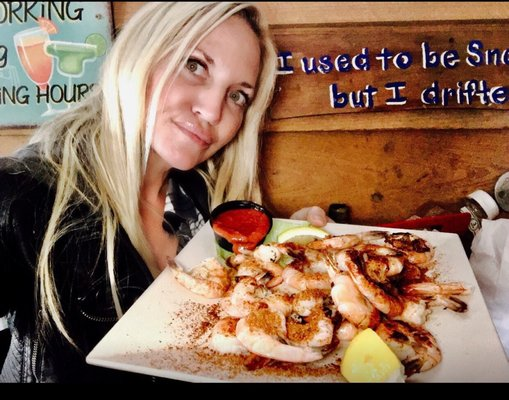sandwich: (122, 201, 486, 381)
